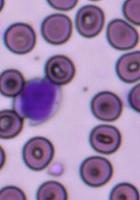L: (12, 76, 62, 124)
